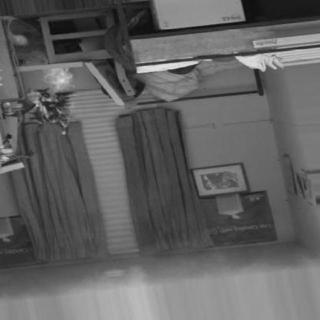Fire: (21, 47, 77, 140)
